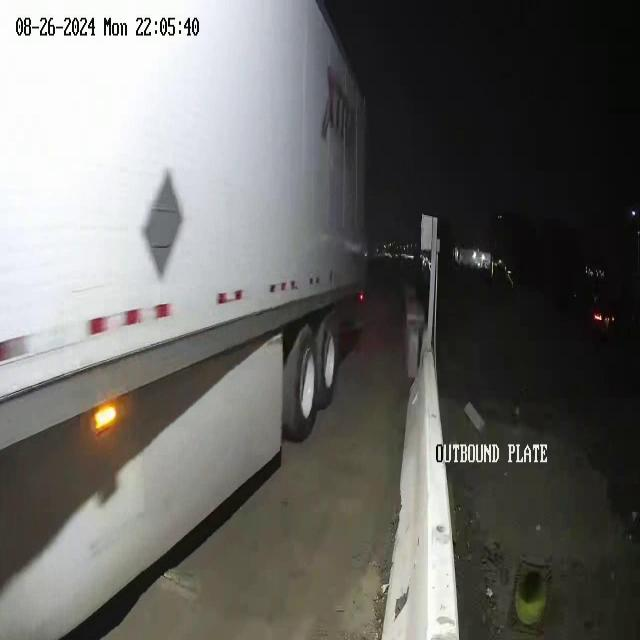TRUCK_OUT: (0, 1, 370, 637)
